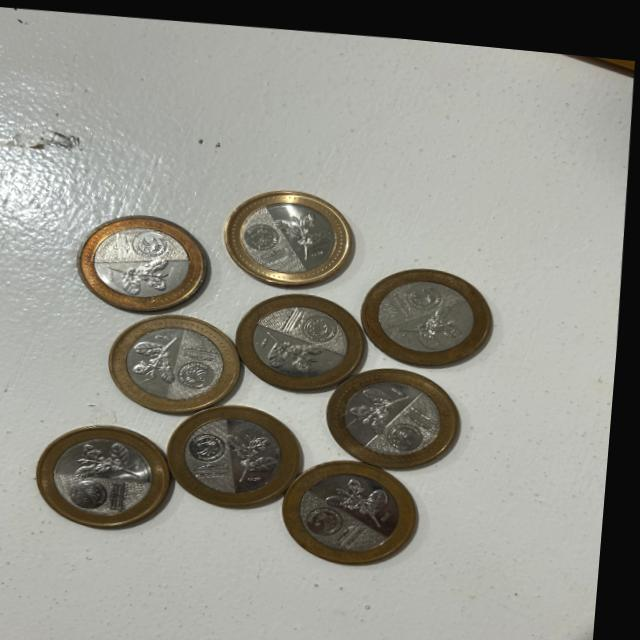20_New_Back: (269, 194, 344, 262), (343, 364, 415, 431), (130, 322, 191, 387)
